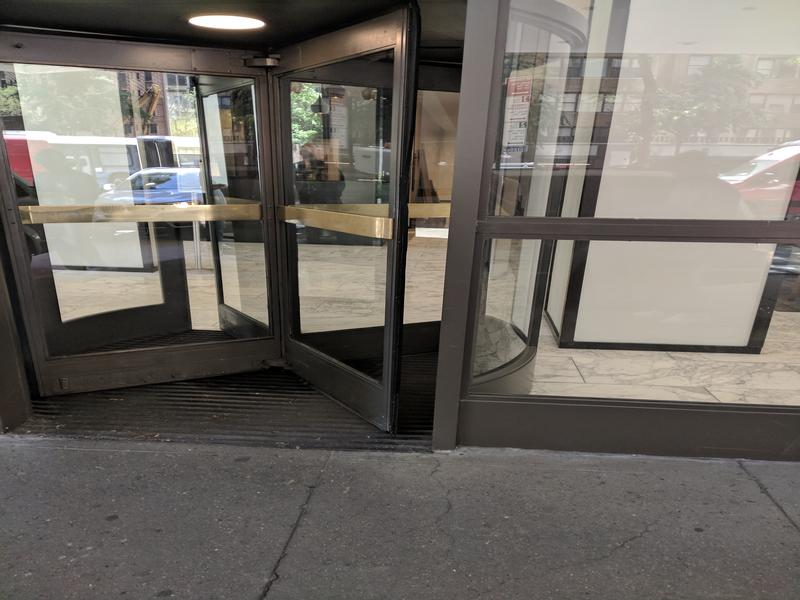revolving_door: (4, 6, 467, 439)
